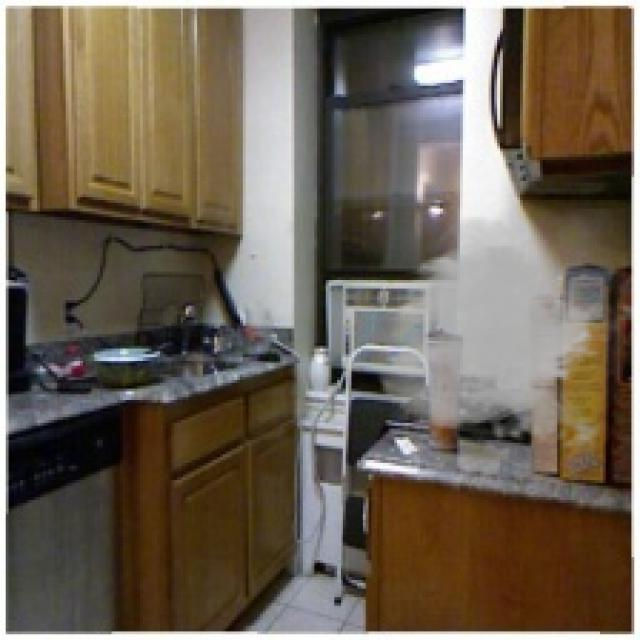smoke: (374, 209, 626, 457)
